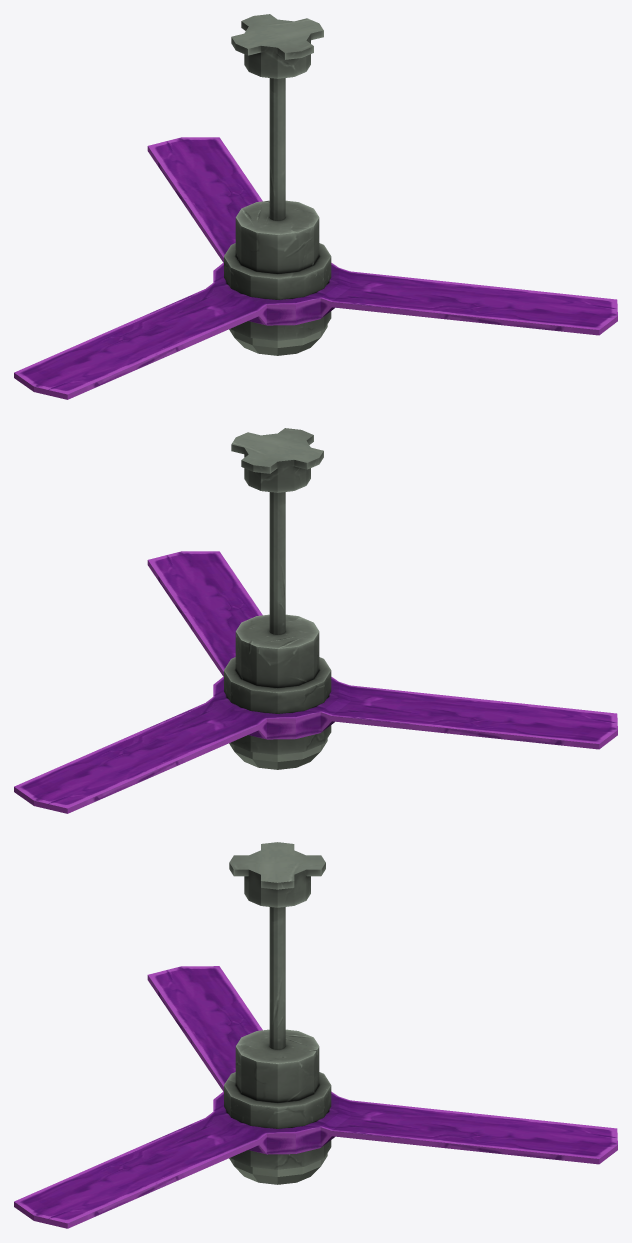
The model's file is Fan_Maya.fbx.
3 views of the same model, one above another, from view 1: azimuth 30°, elevation 25°; view 2: azimuth 150°, elevation 25°; view 3: azimuth 270°, elevation 25° (orthographic).
Visible parts, largest first — view 1: Fan; view 2: Fan; view 3: Fan.
Part boxes in pixels (<box>): Fan: <box>14,14,617,399</box>; Fan: <box>14,428,617,813</box>; Fan: <box>14,842,617,1228</box>.
Bounding box in the file's own units: 6.39 × 3.6 × 6.34.
1 material, 1 textured.
